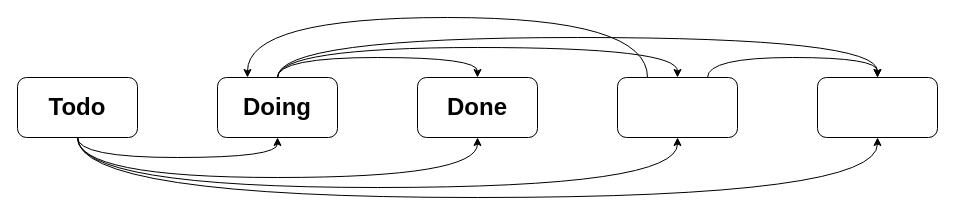
Image size: 955x215. Some labels were removed from this diagram. Here are the shapes that lost their labels. From the top down, the box of each, then its label:
(616, 76, 738, 138): OnHold
(816, 76, 938, 138): Aborted
